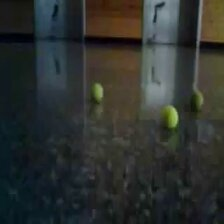tennis: (154, 106, 179, 131), (92, 83, 104, 105), (190, 95, 204, 113)
